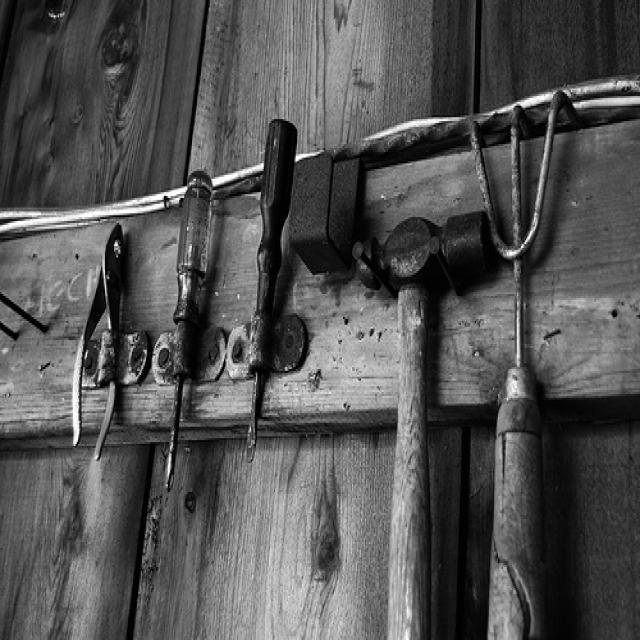hammer: (352, 212, 490, 639)
screw_driver: (248, 120, 296, 459), (166, 171, 212, 489)
wire_cutter: (72, 223, 124, 459)
